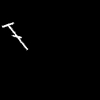double_crochet: (2, 23, 27, 49)
